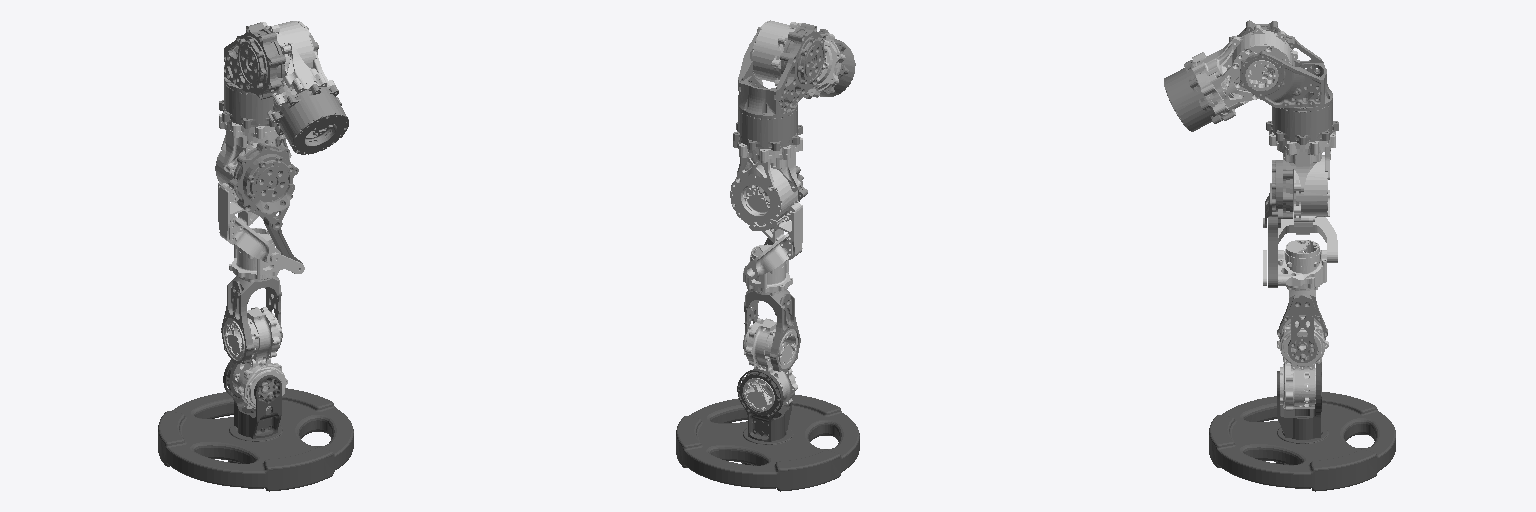
URDF robot description (raipal_stub-5_L):
<?xml version="1.0" encoding="utf-8"?>
<robot name="raipal_stub-5_L">
  <!-- [URDF-WRITER] Created with urdf-writer script (by CHH) on 2026-01-27 21:55:36.753656-->

  <!-- [URDF-WRITER] from module [_fixed-base] -->

  <!-- this link makes the robot fixed-base in RAISIM -->
  <link name="world"></link>

  <link name="base"></link>

  <joint name="base_fix" type="fixed">
    <origin xyz="0 0 0.8" rpy="0 0 0"/>
    <parent link="world" />
    <child link="base" />
    <axis xyz="0 0 0" />
  </joint>


  <!-- [URDF-WRITER] from module [raipal_L] -->

  <link name="L_base">
    <!-- CHH / 2025-09-01-20:14 -->
    <!-- mirrored from [L_base] (frame: R0_base)-->
    <inertial>
      <origin 
        xyz="-0.00013000 0.06389000 -0.05559000"
        rpy="0 0 0" />
      <mass value="0.79658000" />
      <inertia
          ixx="0.00074742"
          ixy="-1.892780e-6"
          ixz="-1.179560e-6"
          iyy="0.00098187"
          iyz="0.00013334"
          izz="0.00082394" />
    </inertial>
    <visual>
      <origin
        xyz="0 0 0"
        rpy="0 0 0" />
      <geometry>
        <mesh filename="../meshes/L_base.STL" />
      </geometry>
      <material name="">
        <color rgba=".6 .6 .6 1" />
      </material>
    </visual>
    <!--</collision>
      <origin
        xyz="0 0 0"
        rpy="0 0 0" />
      <geometry>
        <mesh filename="../meshes/L_base.STL" />
      </geometry>
    </collision>-->
  </link>

  <joint name="L_fix" type="fixed">
    <origin xyz="0 0 0" rpy="0 0 0"/>
    <parent link="base" />
    <child link="L_base" />
    <axis xyz="0 0 0" />
  </joint>

  <link name="L_collar">
    <!-- CHH / 2025-09-01-20:14 -->
    <!-- mirrored from [L_collar] (frame: R1_flexion)-->
    <inertial>
      <origin 
        xyz="0.00471000 1.000000e-5 0.10057000"
        rpy="0 0 0" />
      <mass value="1.72283000" />
      <inertia
          ixx="0.00466072"
          ixy="-5.127800e-7"
          ixz="-0.00028338"
          iyy="0.00434837"
          iyz="-8.010400e-7"
          izz="0.00167296" />
    </inertial>
    <visual>
      <origin
        xyz="0 0 0"
        rpy="0 0 0" />
      <geometry>
        <mesh filename="../meshes/L_collar.STL" />
      </geometry>
      <material name="">
        <color rgba="0.8 0.8 0.8 1" />
      </material>
    </visual>
    <!--</collision>
      <origin
        xyz="0 0 0"
        rpy="0 0 0" />
      <geometry>
        <mesh filename="../meshes/L_collar.STL" />
      </geometry>
    </collision>-->
  </link>

  <joint name="L1_flexion" type="revolute"> <!--[0]-->
    <origin
      xyz="0 0.037198 -0.0709"
      rpy="-1.0472 0 0" />
    <parent link="L_base" />
    <child link="L_collar" />
    <axis
      xyz="0 0 -1" />
    <limit
      lower="-1.57"
      upper="3.14"
      effort="181"
      velocity="13.9" />
    <dynamics rotor_inertia = "0.0576402034658611" />
    <!-- Calculated by CHH on 2025-09-01-20:14-->  
  </joint>

  <link name="L_shoulder">
    <!-- CHH / 2025-09-01-20:14 -->
    <!-- mirrored from [L_shoulder] (frame: R2_adduction)-->
    <inertial>
      <origin 
        xyz="-0.03309000 -0.04277000 0.04408000"
        rpy="0 0 0" />
      <mass value="1.92988000" />
      <inertia
          ixx="0.00554587"
          ixy="-0.00224326"
          ixz="-0.00046924"
          iyy="0.00422168"
          iyz="-0.00058524"
          izz="0.00699049" />
    </inertial>
    <visual>
      <origin
        xyz="0 0 0"
        rpy="0 0 0" />
      <geometry>
        <mesh filename="../meshes/L_shoulder.STL" />
      </geometry>
      <material name="">
        <color rgba="0.6 0.6 0.6 1" />
      </material>
    </visual>
    <!--</collision>
      <origin
        xyz="0 0 0"
        rpy="0 0 0" />
      <geometry>
        <mesh filename="../meshes/L_shoulder.STL" />
      </geometry>
    </collision>-->
  </link>

  <joint name="L2_adduction" type="revolute"> <!--[1]-->
    <origin
      xyz="0.0373 0 0.1418"
      rpy="1.5707963267949 1.0472 -1.5707963267949" />
    <parent link="L_collar" />
    <child link="L_shoulder" />
    <axis
      xyz="0 0 1" />
    <limit
      lower="-2.618"
      upper="0.488"
      effort="181"
      velocity="13.9" />
    <dynamics rotor_inertia = "0.0576402034658611" /> <!-- CHH / 2025-09-01-20:30-->
  </joint>

  <link name="L_humerus">
    <!-- CHH / 2025-09-01-20:14 -->
    <!-- mirrored from [L_humerus] (frame: R3_rotation)-->
    <inertial>
      <origin 
        xyz="-0.00369000 -0.00351000 0.11625000"
        rpy="0 0 0" />
      <mass value="1.96262000" />
      <inertia
          ixx="0.00777442"
          ixy="1.197057e-5"
          ixz="0.00065917"
          iyy="0.00822155"
          iyz="0.00015972"
          izz="0.00201683" />
    </inertial>
    <visual>
      <origin
        xyz="0 0 0"
        rpy="0 0 0" />
      <geometry>
        <mesh filename="../meshes/L_humerus.STL" />
      </geometry>
      <material name="">
        <color rgba="0.8 0.8 0.8 1" />
      </material>
    </visual>
    <!--</collision>
      <origin
        xyz="0 0 0"
        rpy="0 0 0" />
      <geometry>
        <mesh filename="../meshes/L_humerus.STL" />
      </geometry>
    </collision>-->
  </link>

  <joint name="L3_rotation" type="revolute"> <!--[2]-->
    <origin
      xyz="-0.06 -0.06025 0.0373"
      rpy="1.5707963267949 1.5707963267949 0" />
    <parent link="L_shoulder" />
    <child link="L_humerus" />
    <axis
      xyz="0 0 1" />
    <limit
      lower="-3.14"
      upper="3.14"
      effort="181"
      velocity="13.9" />
    <dynamics rotor_inertia = "0.0576402034658611" /> <!-- CHH / 2025-09-01-20:30-->
  </joint>

  <link name="L_elb_input">
    <!-- CHH / 2025-09-01-20:14 -->
    <!-- mirrored from [L_elb_input] (frame: R4a_elbow_power)-->
    <inertial>
      <origin 
        xyz="-2.000000e-5 -0.00335000 0.05897000"
        rpy="0 0 0" />
      <mass value="0.83412000" />
      <inertia
          ixx="0.00071114"
          ixy="-7.660000e-7"
          ixz="-9.255500e-7"
          iyy="0.00059983"
          iyz="5.504818e-5"
          izz="0.00080767" />
    </inertial>
    <visual>
      <origin
        xyz="0 0 0"
        rpy="0 0 0" />
      <geometry>
        <mesh filename="../meshes/L_elb_input.STL" />
      </geometry>
      <material name="">
        <color rgba="0.6 0.6 0.6 1" />
      </material>
    </visual>
    <!--</collision>
      <origin
        xyz="0 0 0"
        rpy="0 0 0" />
      <geometry>
        <mesh filename="../meshes/L_elb_input.STL" />
      </geometry>
    </collision>-->
  </link>

  <joint name="L4a_elbow_power" type="revolute"> <!--[3]-->
    <origin
      xyz="0 -0.0373 0.1418"
      rpy="-1.5707963267949 0 0" />
    <parent link="L_humerus" />
    <child link="L_elb_input" />
    <axis
      xyz="0 0 -1" />
    <limit
      lower="0"
      upper="1.556"
      effort="181"
      velocity="13.9" />
    <dynamics rotor_inertia = "0.0576402034658611" /> <!-- CHH / 2025-09-01-20:30-->
  </joint>

  <link name="L_elb_bar">
    <!-- CHH / 2025-09-01-20:14 -->
    <!-- mirrored from [L_elb_bar] (frame: R4b_elbow_bar_input)-->
    <inertial>
      <origin 
        xyz="0.04274000 -0.00159000 -4.000000e-5"
        rpy="0 0 0" />
      <mass value="0.05314000" />
      <inertia
          ixx="2.335610e-6"
          ixy="0.0"
          ixz="0.0"
          iyy="6.149582e-5"
          iyz="3.110000e-9"
          izz="6.199993e-5" />
    </inertial>
    <visual>
      <origin
        xyz="0 0 0"
        rpy="0 0 0" />
      <geometry>
        <mesh filename="../meshes/L_elb_bar.STL" />
      </geometry>
      <material name="">
        <color rgba="0.5 0.5 0.5 1" />
      </material>
    </visual>
    <!--</collision>
      <origin
        xyz="0 0 0"
        rpy="0 0 0" />
      <geometry>
        <mesh filename="../meshes/L_elb_bar.STL" />
      </geometry>
    </collision>-->
  </link>

  <joint name="L4b_elbow_bar_input" type="revolute">  <!--[4-unpowered]-->
    <origin
      xyz="0.00134978286029327 -0.0599848154638326 0.0812119041053838"
      rpy="0 0 -1.12941902735751" />
    <parent link="L_elb_input" />
    <child link="L_elb_bar" />
    <axis
      xyz="0 0 1" />
    <limit
      lower="0"
      upper="1.802"
      effort="0"
      velocity="100" />
  </joint>

  <link name="L_ulna">
    <!-- CHH / 2025-09-01-20:14 -->
    <!-- mirrored from [L_ulna] (frame: R4_elbow)-->
    <inertial>
      <origin 
        xyz="0.00533000 -0.01576000 -0.03891000"
        rpy="0 0 0" />
      <mass value="0.36947000" />
      <inertia
          ixx="0.00032310"
          ixy="1.385696e-5"
          ixz="-4.244104e-5"
          iyy="0.00036383"
          iyz="5.919040e-6"
          izz="0.00020708" />
    </inertial>
    <visual>
      <origin
        xyz="0 0 0"
        rpy="0 0 0" />
      <geometry>
        <mesh filename="../meshes/L_ulna.STL" />
      </geometry>
      <material name="">
        <color rgba="0.8 0.8 0.8 1" />
      </material>
    </visual>
    <!--</collision>
      <origin
        xyz="0 0 0"
        rpy="0 0 0" />
      <geometry>
        <mesh filename="../meshes/L_ulna.STL" />
      </geometry>
    </collision>-->
  </link>

  <joint name="L4_elbow" type="revolute">  <!--[5-unpowered]-->
    <origin
      xyz="0 0.043912 0.25475"
      rpy="-1.5707963267949 0 0" />
    <parent link="L_humerus" />
    <child link="L_ulna" />
    <axis
      xyz="0 0 1" />
    <limit
      lower="0"
      upper="2.2689"
      effort="0"
      velocity="100" />
  </joint>

  <link name="L_radius">
    <!-- CHH / 2025-09-01-20:14 -->
    <!-- link name: [L_radius]-->
    <!-- frame: [L5_roll]-->
    <inertial>
      <origin 
        xyz="0.00151000 0.0 0.10290000"
        rpy="0 0 0" />
      <mass value="0.42307000" />
      <inertia
          ixx="0.00112662"
          ixy="1.975000e-8"
          ixz="-5.589578e-5"
          iyy="0.00120471"
          iyz="-1.556000e-8"
          izz="0.00024138" />
    </inertial>
    <visual>
      <origin
        xyz="0 0 0"
        rpy="0 0 0" />
      <geometry>
        <mesh filename="../meshes/L_radius.STL" />
      </geometry>
      <material name="">
        <color rgba="0.6 0.6 0.6 1" />
      </material>
    </visual>
    <!--<collision>
      <origin
        xyz="0 0 0"
        rpy="0 0 0" />
      <geometry>
        <mesh filename="../meshes/L_radius.STL" />
      </geometry>
    </collision>-->
  </link>

  <joint name="L5_roll" type="revolute"> <!--[6]-->
    <origin
      xyz="0 0.0135819531869474 -0.0439119041053754"
      rpy="1.5707963267949 0 0" />
    <parent link="L_ulna" />
    <child link="L_radius" />
    <axis
      xyz="0 0 1" />
    <limit
      lower="-1.57"
      upper="1.57"
      effort="12.61"
      velocity="53.8" />
    <dynamics rotor_inertia = "0.000540543349430043" /> <!-- CHH / 2025-09-01-20:30-->
  </joint>

  <link name="L_carpal">
    <!-- CHH / 2025-09-01-20:14 -->
    <!-- link name: [L_carpal]-->
    <!-- frame: [L6_pitch]-->
    <inertial>
      <origin 
        xyz="-0.00117000 -0.03421000 0.02964000"
        rpy="0 0 0" />
      <mass value="0.67981000" />
      <inertia
          ixx="0.00128813"
          ixy="-3.134577e-5"
          ixz="3.268690e-6"
          iyy="0.00040998"
          iyz="9.323146e-5"
          izz="0.00126953" />
    </inertial>
    <visual>
      <origin
        xyz="0 0 0"
        rpy="0 0 0" />
      <geometry>
        <mesh filename="../meshes/L_carpal.STL" />
      </geometry>
      <material name="">
        <color rgba="0.8 0.8 0.8 1" />
      </material>
    </visual>
    <!--<collision>
      <origin
        xyz="0 0 0"
        rpy="0 0 0" />
      <geometry>
        <mesh filename="../meshes/L_carpal.STL" />
      </geometry>
    </collision>-->
  </link>

  <joint name="L6_pitch" type="revolute"> <!--[7]-->
    <origin
      xyz="-0.0337 0 0.153581953186935"
      rpy="-1.5707963267949 0 -1.5707963267949" />
    <parent link="L_radius" />
    <child link="L_carpal" />
    <axis
      xyz="0 0 -1" />
    <limit
      lower="-2.0944"
      upper="2.0944"
      effort="12.61"
      velocity="53.8" />
    <dynamics rotor_inertia = "0.000540543349430043" /> <!-- CHH / 2025-09-01-20:30-->
  </joint>

  <link name="L_ee">
    <!-- CHH / 2025-09-01-20:14 -->
    <!-- link name: [L_ee]-->
    <!-- frame: [L7_yaw]-->
    <inertial>
      <origin 
        xyz="0.0 0.0 0.04531000"
        rpy="0 0 0" />
      <mass value="0.13143000" />
      <inertia
          ixx="3.339173e-5"
          ixy="0.0"
          ixz="0.0"
          iyy="3.339173e-5"
          iyz="0.0"
          izz="4.133016e-5" />
    </inertial>
    <visual>
      <origin
        xyz="0 0 0"
        rpy="0 0 0" />
      <geometry>
        <mesh filename="../meshes/L_ee.STL" />
      </geometry>
      <material name="">
        <color rgba="0.6 0.6 0.6 1" />
      </material>
    </visual>
    <!--<collision>
      <origin
        xyz="0 0 0"
        rpy="0 0 0" />
      <geometry>
        <mesh filename="../meshes/L_ee.STL" />
      </geometry>
    </collision>-->
  </link>

  <joint name="L7_yaw" type="revolute"> <!--[8]-->
    <origin
      xyz="0.0264 -0.073 0.0337"
      rpy="0 -1.5707963267949 0" />
    <parent link="L_carpal" />
    <child link="L_ee" />
    <axis
      xyz="0 0 1" />
    <limit
      lower="-1.57079"
      upper="1.57079"
      effort="12.61"
      velocity="53.8" />
    <dynamics rotor_inertia = "0.000540543349430043" /> <!-- CHH / 2025-09-01-20:30-->
  </joint>

  <!-- imaginary links for loop closure -->
  <link name="L_loop_barside"></link>

  <joint name="L4cA_elbow_loop_bar" type="fixed">
    <origin
      xyz="0.0854747786370337 0 0"
      rpy="0 0 0" />
    <parent link="L_elb_bar" />
    <child link="L_loop_barside" />
    <axis
      xyz="0 0 -1" />
    <limit
      lower="-3.14"
      upper="3.14"
      effort="0"
      velocity="100" />
  </joint>

  <link name="L_loop_ulnaside"></link>

  <joint name="L4cB_elbow_loop_ulna_fixed" type="fixed">
    <origin
      xyz="0.0378633410992504 -0.0243180468130526 0"
      rpy="0 0 -1.12941902735751" />
    <parent link="L_ulna" />
    <child link="L_loop_ulnaside" />
    <axis
      xyz="0 0 0" />
  </joint>

  

  <!-- [URDF-WRITER] from module [stub-5_L] -->
  <link name="L_stub">
    <!-- CHH / 2025-10-17-21:18 -->
    <!-- link name: [stub-5]-->
    <!-- frame: [RE_end-effector]-->
    <inertial>
      <origin 
        xyz="5.000000e-5 -0.08895000 0.02623000"
        rpy="0 0 0" />
      <mass value="5.52298000" />
      <inertia
          ixx="0.02835114"
          ixy="7.398080e-6"
          ixz="2.272770e-6"
          iyy="0.05347586"
          iyz="0.00010221"
          izz="0.02830810" />
    </inertial>

    <visual>
      <origin
        xyz="0 0 0"
        rpy="0 0 0" />
      <geometry>
        <mesh filename="../meshes/stub_5.STL" />
      </geometry>
      <material name="">
        <color rgba="0.4 0.4 0.4 1" />
      </material>
    </visual>
  </link>

  <joint name="LE_end_effector_fixed" type="fixed">
    <origin
      xyz="0 0 0"
      rpy="0 0 0" />
    <parent link="L_ee" />
    <child link="L_stub" />
    <axis
      xyz="0 0 0" />
  </joint>

  <link name="L_stub-tip"></link>

  <joint name="LE_tip_fixed" type="fixed">
    <origin
      xyz="0 -0.157 0.0264"
      rpy="+1.5708 0 0" />
    <parent link="L_stub" />
    <child link="L_stub-tip" />
    <axis
      xyz="0 0 0" />
  </joint>
  <!-- [URDF-WRITER] merged constraints -->
  <constraints nominal_config="0 0 0 0 0 0 0 0 0 0 0 0 0 0 0 0 0 0 0 0 0">
    <pin body1="L_loop_barside" body2="L_loop_ulnaside" anchor="0.0 0.0 0.0"/>
  </constraints>

</robot>

--- Facts derived from the render (not from the file) ---
Views: 3 orthographic renders of the robot side by side, from view 1: azimuth 30°, elevation 25°; view 2: azimuth 150°, elevation 25°; view 3: azimuth 270°, elevation 25°.
Model raipal_stub-5_L with 16 links and 15 joints (9 revolute, 6 fixed), rooted at world, posed every joint at zero.
Links seen in each view (by area): view 1: L_stub, L_shoulder, L_humerus, L_elb_input, L_base, L_carpal, L_collar, L_radius, L_ulna; view 2: L_stub, L_shoulder, L_humerus, L_carpal, L_collar, L_radius, L_ulna, L_base; view 3: L_stub, L_shoulder, L_collar, L_humerus, L_carpal, L_ulna, L_base, L_radius, L_elb_input, L_elb_bar.
Boxes of the visible links, box(x1,y1,x2,y2) form: L_stub: box(158, 360, 353, 491); L_shoulder: box(219, 23, 318, 128); L_humerus: box(215, 114, 291, 264); L_elb_input: box(228, 143, 298, 230); L_base: box(272, 84, 348, 154); L_carpal: box(224, 307, 287, 410); L_collar: box(257, 21, 334, 122); L_radius: box(221, 276, 282, 363); L_ulna: box(229, 228, 304, 282); L_stub: box(676, 369, 859, 491); L_shoulder: box(733, 23, 826, 150); L_humerus: box(730, 137, 802, 279); L_carpal: box(743, 318, 797, 411); L_collar: box(752, 20, 845, 97); L_radius: box(743, 289, 800, 371); L_ulna: box(743, 244, 792, 295); L_base: box(804, 29, 855, 98); L_stub: box(1209, 362, 1395, 491); L_shoulder: box(1229, 20, 1338, 144); L_collar: box(1192, 25, 1297, 120); L_humerus: box(1269, 131, 1337, 262); L_carpal: box(1277, 315, 1328, 410); L_ulna: box(1263, 240, 1326, 290); L_base: box(1164, 60, 1223, 131); L_radius: box(1277, 290, 1327, 362); L_elb_input: box(1263, 159, 1292, 227); L_elb_bar: box(1268, 217, 1277, 287).
Size in the robot's own frame: 0.2759 by 0.3429 by 0.7385 metres.
11 mesh visuals loaded from 11 distinct referenced files (11 binary STL).
